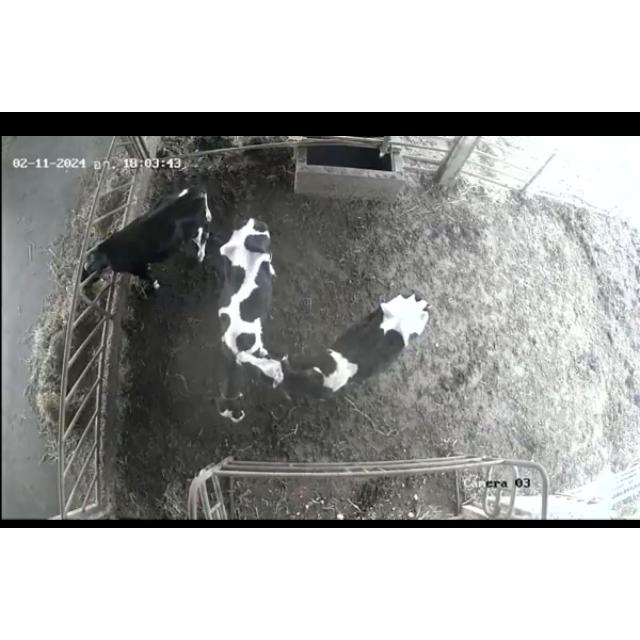propping: (228, 328, 318, 402)
